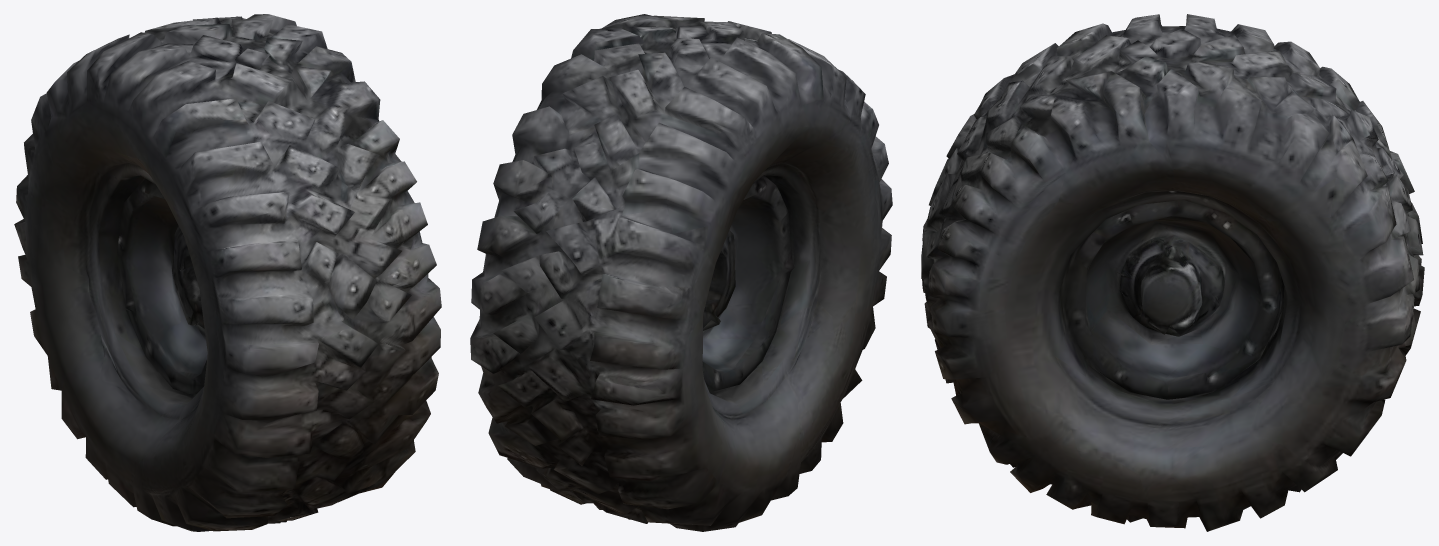
3 views of the same model, side by side, from view 1: azimuth 30°, elevation 25°; view 2: azimuth 150°, elevation 25°; view 3: azimuth 270°, elevation 25° (orthographic).
Visible parts, largest first — view 1: tripo_node_d8f6bd71-c627-4c74-ad26-e8db6f61dbce; view 2: tripo_node_d8f6bd71-c627-4c74-ad26-e8db6f61dbce; view 3: tripo_node_d8f6bd71-c627-4c74-ad26-e8db6f61dbce.
Part boxes in pixels (x1,y1,x2,y2): tripo_node_d8f6bd71-c627-4c74-ad26-e8db6f61dbce: (14,14,441,531); tripo_node_d8f6bd71-c627-4c74-ad26-e8db6f61dbce: (470,14,892,531); tripo_node_d8f6bd71-c627-4c74-ad26-e8db6f61dbce: (921,14,1424,531).
Bounding box in the file's own units: 0.466 × 0.9734 × 0.9739.
1 material, 1 textured.
